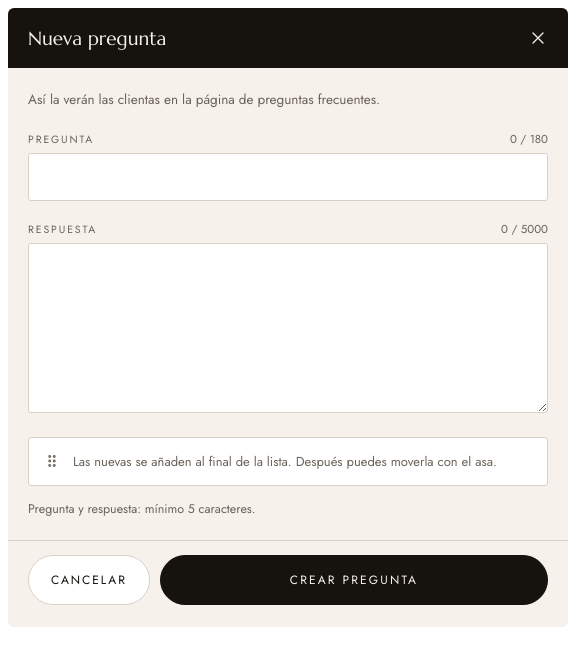
PreguntaDialog · crear › menos de 5 caracteres tras recortar no vale
In the field with test id "campo-pregunta": (288, 177) [28, 153, 548, 201], type "  ¿Si?  "
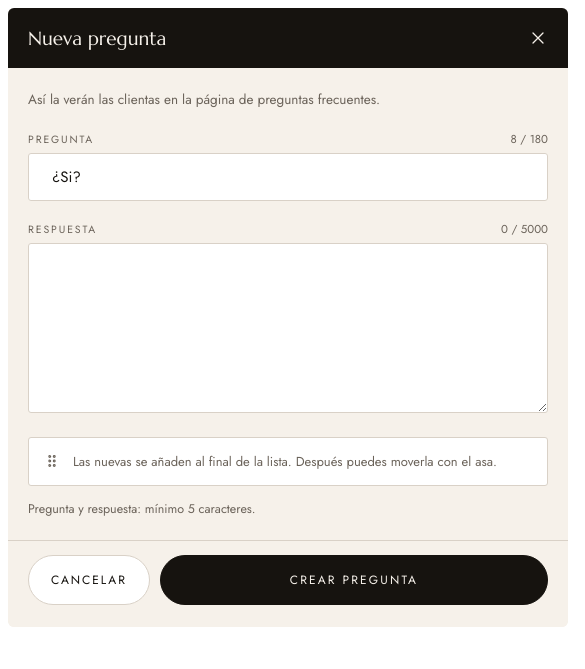
In the text box with test id "campo-respuesta": (288, 328) [28, 243, 548, 413], type "Sí, claro que sí."
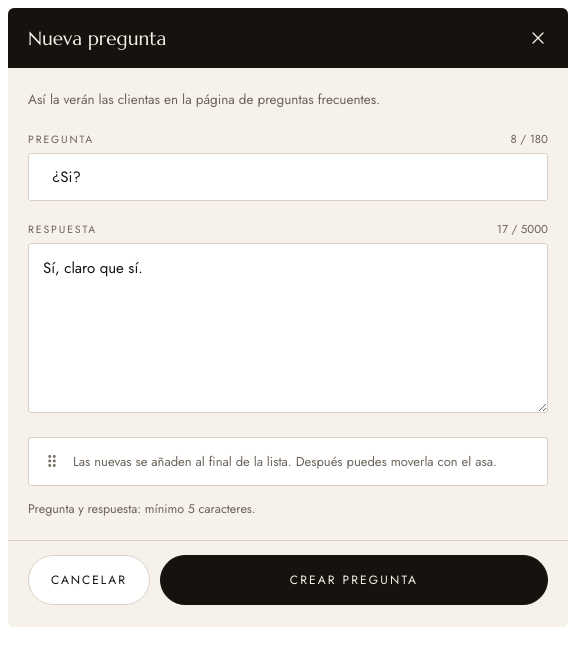
Submit the form with test id "formulario-pregunta"
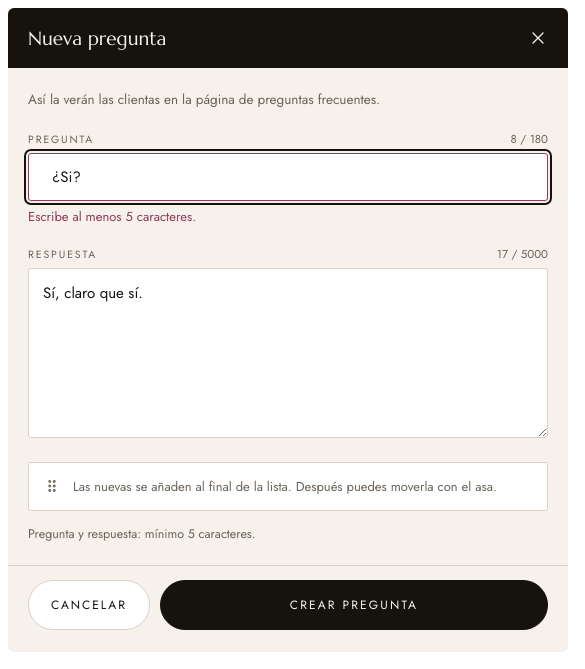
Result: the text with test id "error-pregunta" reads "Escribe al menos 5 caracteres." at [28, 207, 196, 226]
